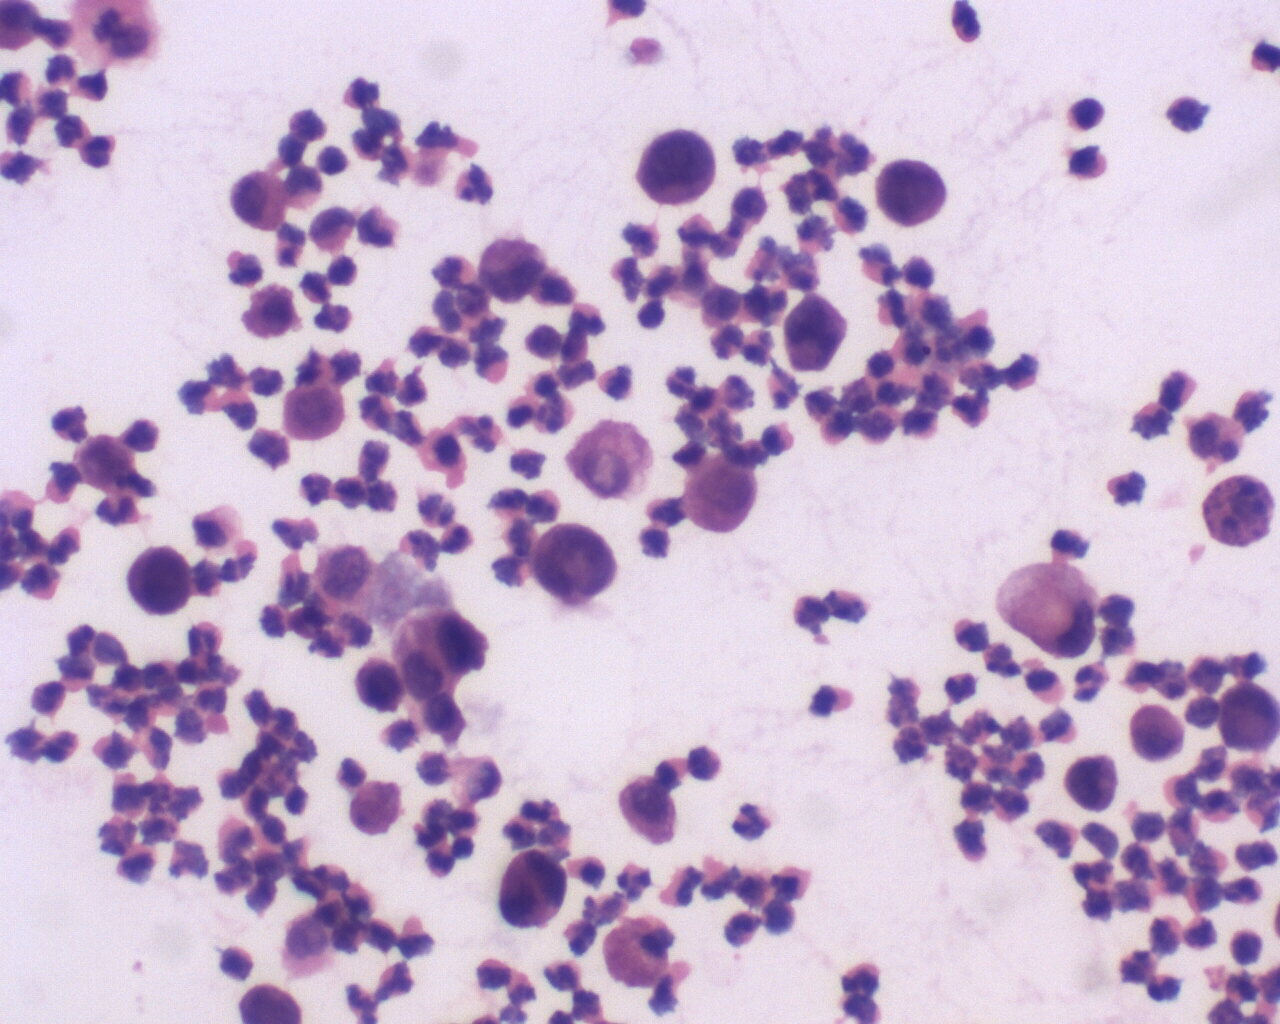ab: (489, 844, 578, 935), (533, 520, 618, 615), (629, 124, 717, 209), (680, 453, 763, 539), (784, 292, 851, 385), (471, 231, 546, 309), (876, 152, 950, 231), (124, 542, 200, 619), (271, 377, 348, 450), (616, 775, 683, 847), (1219, 679, 1280, 757), (1060, 752, 1119, 817), (350, 655, 408, 717)
lymph: (1066, 93, 1109, 133)
meso: (228, 166, 294, 235)
neutro: (449, 163, 501, 208), (729, 797, 772, 845)
